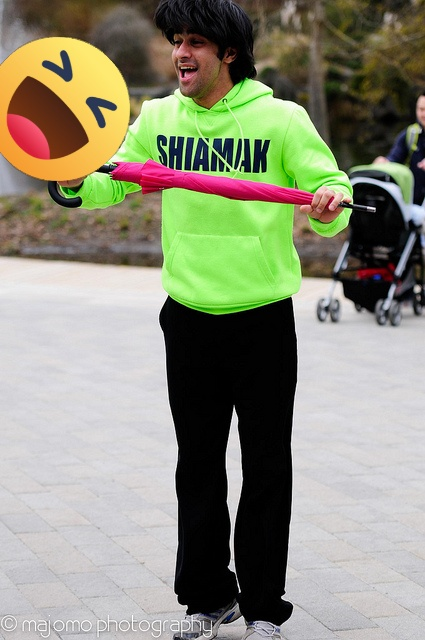haha: (0, 37, 130, 181)
